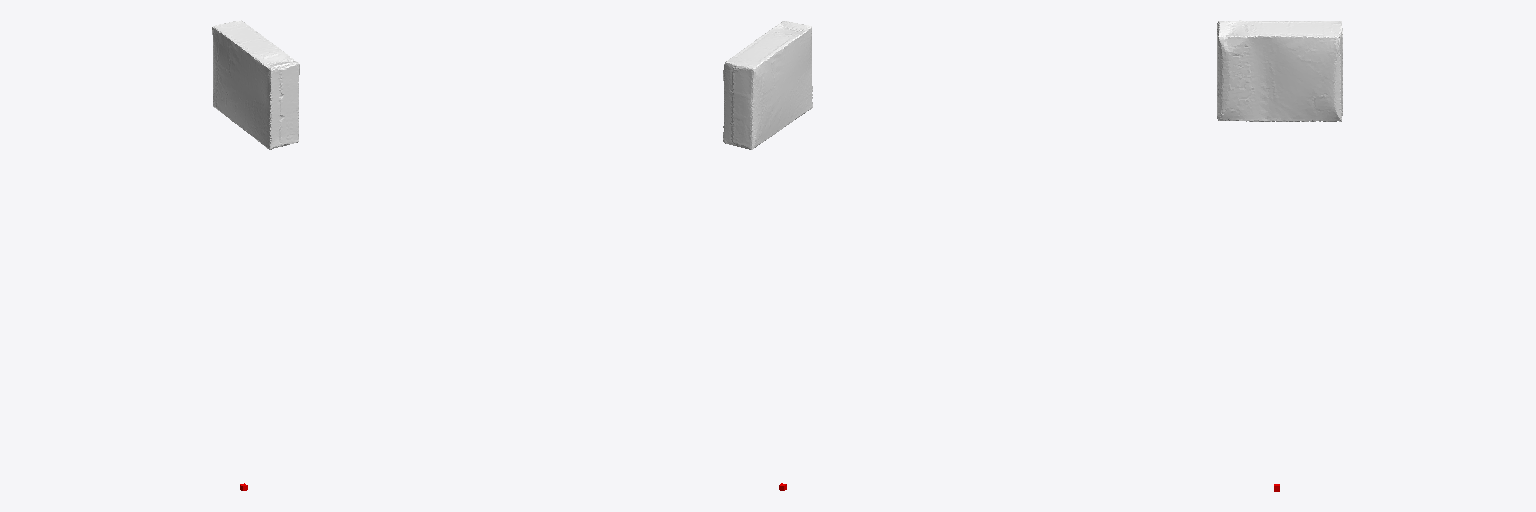
The robot description file, URDF, robot "model.urdf":
<?xml version="0.0" ?>
<robot name="model.urdf">
  <link name="baseLink">
    <contact>
      <friction_anchor/>
      <lateral_friction value="0.5"/>
      <contact_cfm value="0.0"/>
      <contact_erp value="1.0"/>
      <restitution value="0.0"/> <!-- avoid oscillations with heavy mass attached -->
    </contact>
    <inertial>
       <origin rpy="0 0 0" xyz="0.0 0.0 0.0"/>
       <mass value=".411"/>
       <inertia ixx="0.5" ixy="0" ixz="0" iyy="0.5" iyz="0" izz="0.1"/>
    </inertial>
    <visual>
      <geometry>
        <mesh filename="textured_simple_reoriented.obj" scale="1 1 1"/>
      </geometry>
      <material name="white">
        <color rgba="1. 1. 1. 0.5"/>
      </material>
    </visual>
    <collision>
      <geometry>
    	 	<mesh filename="collision_vhacd.obj" scale="1 1 1"/>
      </geometry>
    </collision>
  </link>

  <!-- Define a virtual mass link that will serve to lower the center of mass -->
  <link name="virtualMassLink">
    <inertial>
      <origin rpy="0 0 0" xyz="0.0 0.0 0."/> <!-- Position it below the baseLink -->
      <mass value="8.0"/> <!-- Assign significant mass to pull the COM down -->
      <inertia ixx="0.0001" ixy="0" ixz="0" iyy="0.0001" iyz="0" izz="0.0001"/>
    </inertial>
    <!-- Add a visual representation for debugging -->
    <visual>
      <origin rpy="0 0 0" xyz="0.0 0.0 0."/>
      <geometry>
        <box size="0.01 0.01 0.01"/> <!-- Define the size of the visual box -->
      </geometry>
      <material name="red">
        <color rgba="1 0 0 1"/> <!-- Color the box red for visibility -->
      </material>
    </visual>
  </link>

  <!-- Connect the virtual mass link to the baseLink with a fixed joint -->
  <joint name="virtualMassJoint" type="fixed">
    <parent link="baseLink"/>
    <child link="virtualMassLink"/>
    <origin rpy="0 0 0" xyz="0.0 0.0 -0.8"/>
  </joint>

</robot>

--- What the picture shows (computed from the rendered views, not written in the file) ---
3 views of the same robot in one strip: view 1: azimuth 30°, elevation 25°; view 2: azimuth 150°, elevation 25°; view 3: azimuth 270°, elevation 25° (orthographic).
Model model.urdf with 2 links and 1 joints (1 fixed), rooted at baseLink, posed every joint at zero.
Links seen in each view (by area): view 1: baseLink; view 2: baseLink; view 3: baseLink.
Link boxes in pixels (<box>): baseLink: <box>212,20,299,149</box>; baseLink: <box>723,21,812,149</box>; baseLink: <box>1217,20,1342,121</box>.
Bounding box of the posed robot: 0.0717 × 0.2135 × 0.8753 m (x, y, z).
Meshes: 1 distinct files referenced, 1 mesh visuals loaded (1 OBJ).